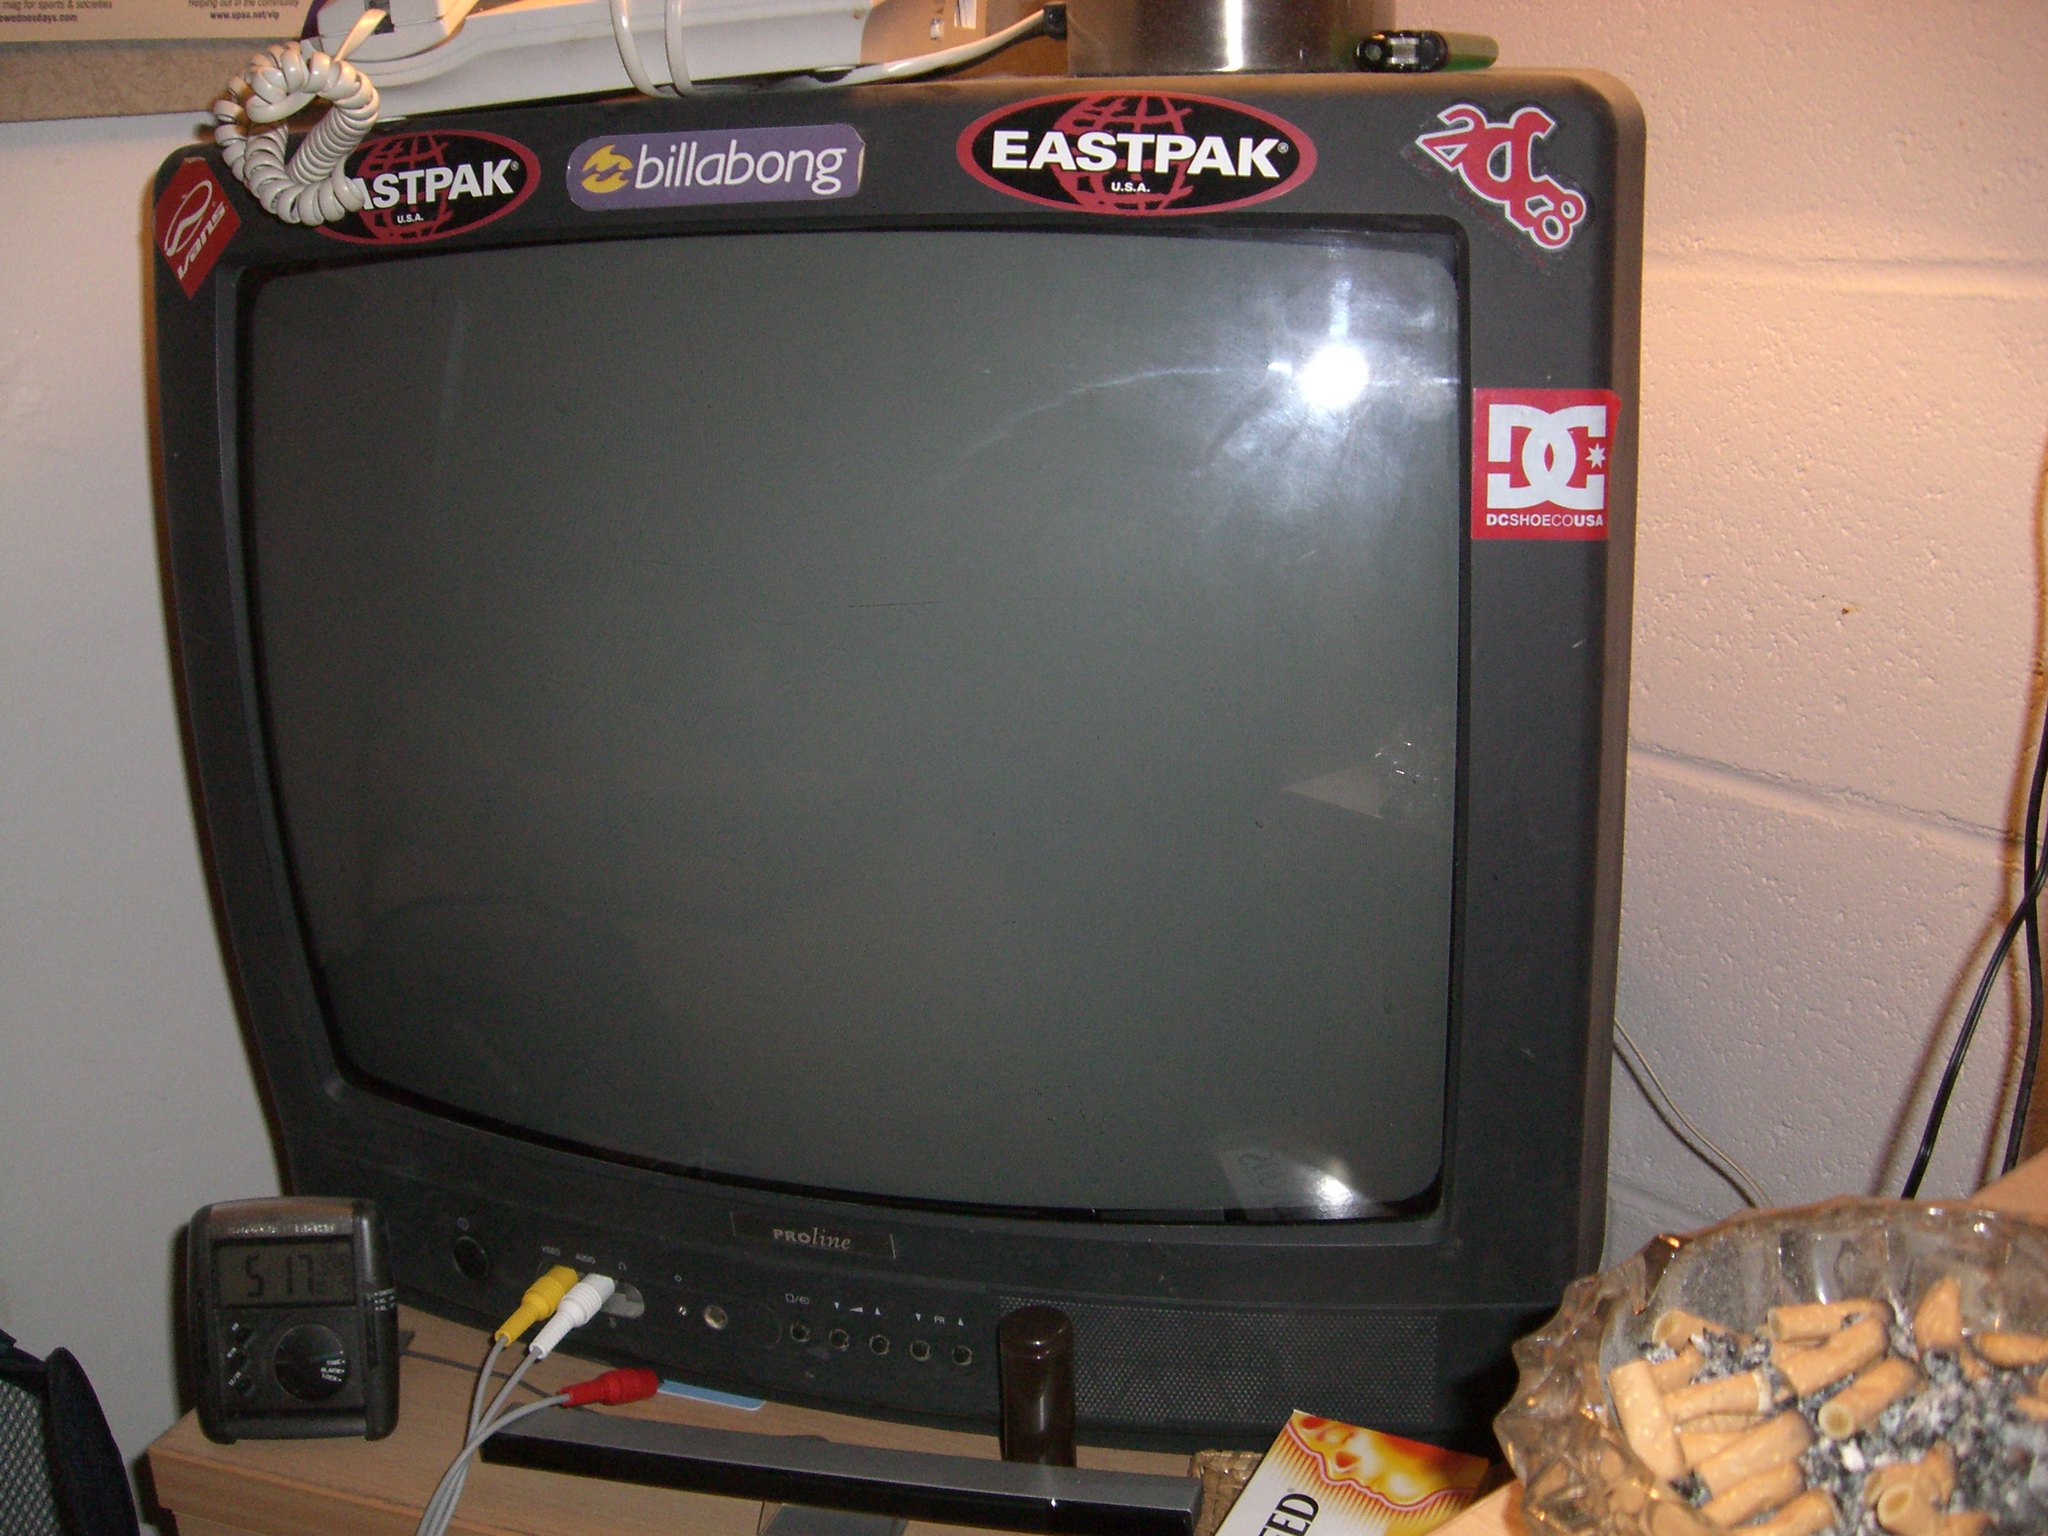tv monitor: (153, 94, 1714, 1484)
